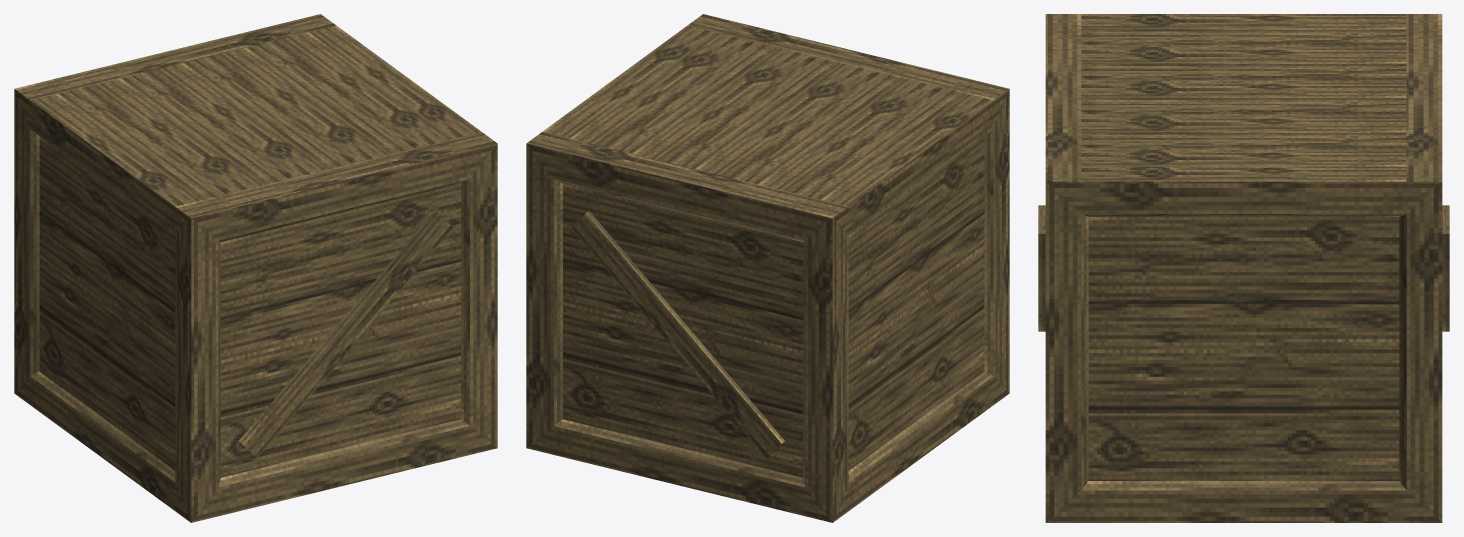
The model's file is Cassa_02_Invecchiata.obj.
3 renders of one model, left to right at view 1: azimuth 30°, elevation 25°; view 2: azimuth 150°, elevation 25°; view 3: azimuth 270°, elevation 25°, orthographic. The views are drawn at different scales.
Visible parts, largest first — view 1: Cassa_02_Invecchiata; view 2: Cassa_02_Invecchiata; view 3: Cassa_02_Invecchiata.
Boxes of the visible parts, bbox=[...] form: Cassa_02_Invecchiata: bbox=[14, 14, 497, 522]; Cassa_02_Invecchiata: bbox=[526, 14, 1009, 522]; Cassa_02_Invecchiata: bbox=[1038, 14, 1449, 522].
Bounding box in the file's own units: 1 × 0.95 × 1.04.
1 material, 1 textured.
